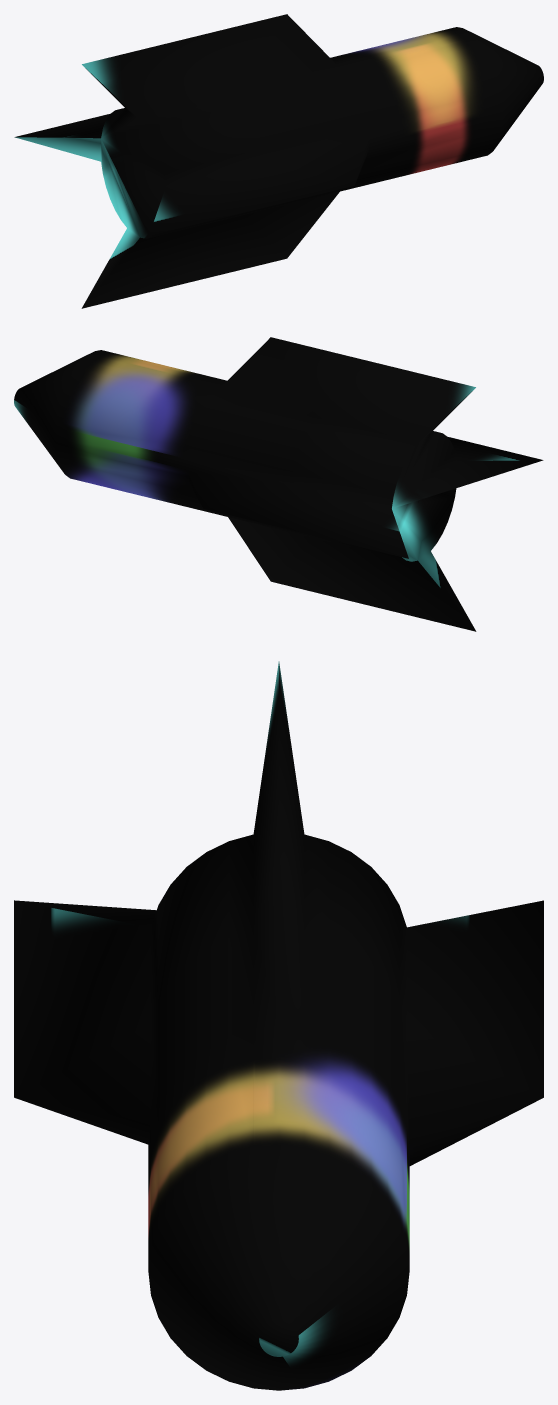
Rendered from missile.fbx.
3 renders of one model, top to bottom at view 1: azimuth 30°, elevation 25°; view 2: azimuth 150°, elevation 25°; view 3: azimuth 270°, elevation 25°, orthographic. The views are drawn at different scales.
Visible parts, largest first — view 1: Cylinder; view 2: Cylinder; view 3: Cylinder.
Part boxes in pixels (x1,y1,x2,y2): Cylinder: (14,14,543,308); Cylinder: (14,337,543,631); Cylinder: (14,661,543,1390).
Bounding box in the file's own units: 795 × 406 × 406.
